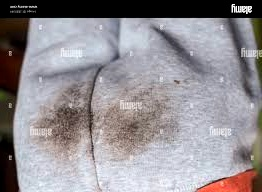earth: (105, 112, 153, 142), (53, 100, 82, 147)
